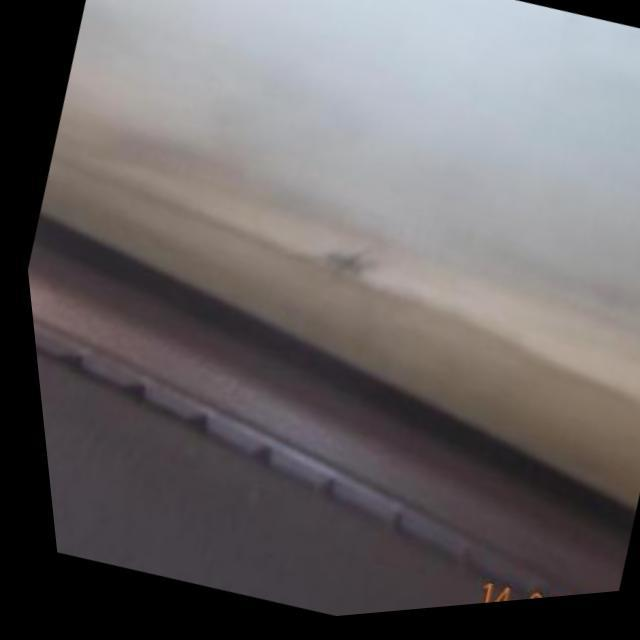scratch: (295, 239, 395, 310)
